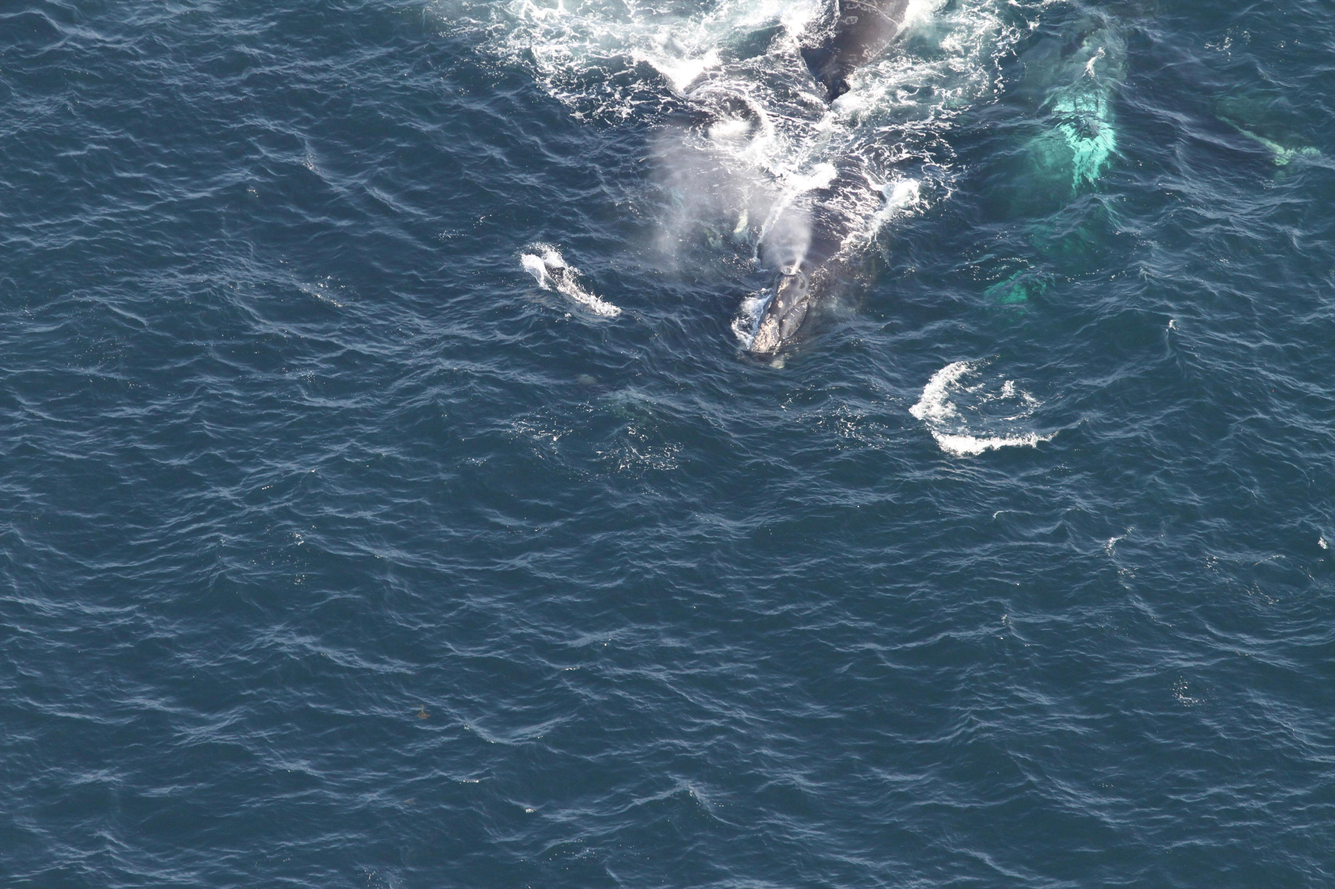whale: (738, 109, 928, 380), (976, 0, 1125, 316), (805, 0, 917, 98)
